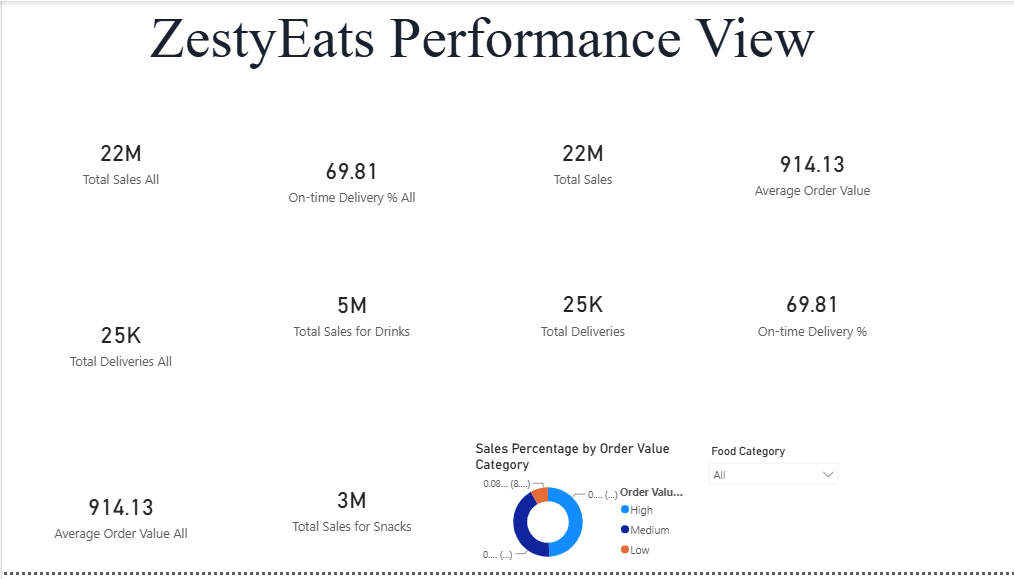

The dashboard page shown, as its layout file describes it:
{"tool":"powerbi","page":{"name":"KPIs","canvas":[1280,720],"ordinal":0},"visuals":[{"type":"card","fields":{"Values":["Order_details.Total Sales All"]},"box":[10.4,118.2,279.9,161.7],"z":0},{"type":"card","fields":{"Values":["Order_details.Total Deliveries All"]},"box":[10,290,280,280],"z":1000},{"type":"card","fields":{"Values":["Order_details.Average Order Value All"]},"box":[10,570,280,150],"z":2000},{"type":"card","fields":{"Values":["Order_details.On-time Delivery % All"]},"box":[300.7,163.8,279.9,116.1],"z":3000},{"type":"card","fields":{"Values":["Order_details.Total Sales for Drinks"]},"box":[300.7,221.9,279.9,279.9],"z":4000},{"type":"card","fields":{"Values":["Order_details.Total Sales for Snacks"]},"box":[300.7,553.6,279.9,165.9],"z":5000},{"type":"card","fields":{"Values":["Order_details.Total Sales"]},"box":[590.9,118.2,279.9,161.7],"z":6000},{"type":"card","fields":{"Values":["Order_details.Total Deliveries"]},"box":[591,280,280,222],"z":7000},{"type":"card","fields":{"Values":["Order_details.Average Order Value"]},"box":[881.2,147.2,279.9,132.7],"z":8000},{"type":"card","fields":{"Values":["Order_details.On-time Delivery %"]},"box":[881,280,280,222],"z":9000},{"type":"donutChart","title":"Sales Percentage by Order Value Category","fields":{"Category":["Order_details.Order Value Category"],"Y":["Order_details.Sales Percentage"]},"box":[591,554,280,166],"z":10000},{"type":"slicer","fields":{"Values":["Restaurant_details.Food Category","Order_details.Type Of Order"]},"box":[881.2,553.6,182.5,165.9],"z":11000},{"type":"textbox","box":[181.4,0,882.5,149.3],"z":11001}]}

Visuals, with their boxes in screenshot pixels (x1, y1, x2, y2), scaled from the page's 1280x720 canvas onto the 1014x579 screenshot:
card - Order_details.Total Sales All: box(8, 95, 230, 225)
card - Order_details.Total Deliveries All: box(8, 233, 230, 458)
card - Order_details.Average Order Value All: box(8, 458, 230, 578)
card - Order_details.On-time Delivery % All: box(238, 132, 460, 225)
card - Order_details.Total Sales for Drinks: box(238, 178, 460, 404)
card - Order_details.Total Sales for Snacks: box(238, 445, 460, 578)
card - Order_details.Total Sales: box(468, 95, 690, 225)
card - Order_details.Total Deliveries: box(468, 225, 690, 404)
card - Order_details.Average Order Value: box(698, 118, 920, 225)
card - Order_details.On-time Delivery %: box(698, 225, 920, 404)
"Sales Percentage by Order Value Category" donutChart: box(468, 446, 690, 578)
slicer - Restaurant_details.Food Category x Order_details.Type Of Order: box(698, 445, 843, 578)
textbox: box(144, 0, 843, 120)
